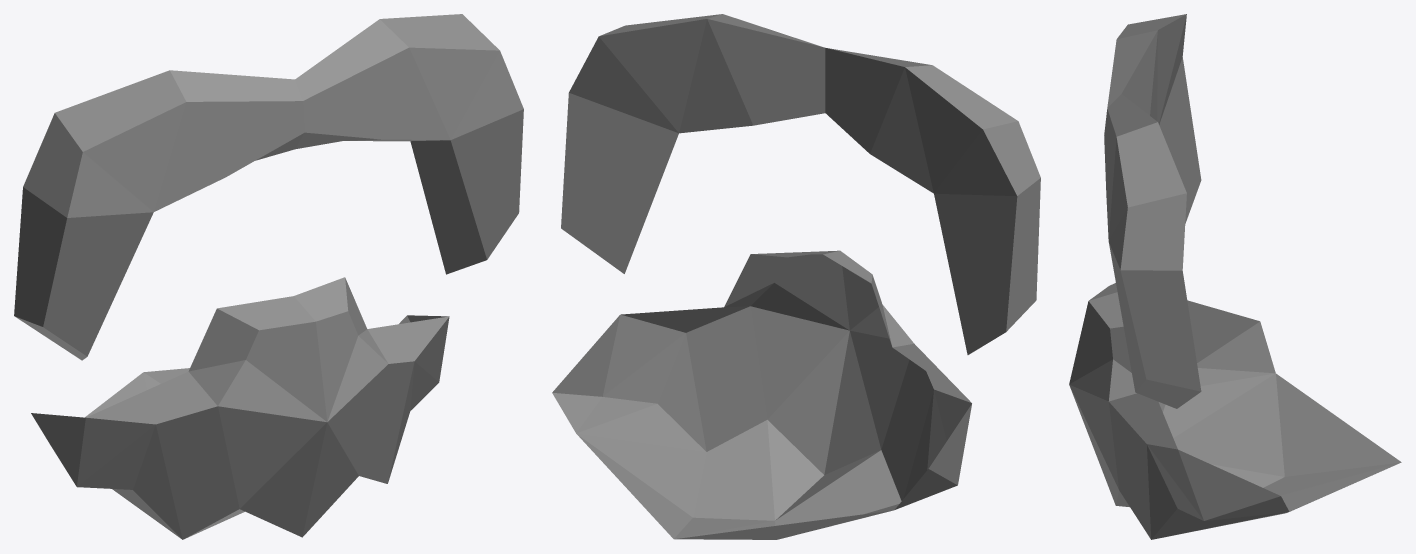
The model's file is SM_Chr_Attach_Beard_Grey_01.fbx.
3 renders of one model, left to right at view 1: azimuth 30°, elevation 25°; view 2: azimuth 150°, elevation 25°; view 3: azimuth 270°, elevation 25°, orthographic. The views are drawn at different scales.
Visible parts, largest first — view 1: SM_Chr_Attach_Beard_Grey_01; view 2: SM_Chr_Attach_Beard_Grey_01; view 3: SM_Chr_Attach_Beard_Grey_01.
Part boxes in pixels (x1=…): SM_Chr_Attach_Beard_Grey_01: x1=14, y1=14, x2=523, y2=539; SM_Chr_Attach_Beard_Grey_01: x1=552, y1=14, x2=1040, y2=539; SM_Chr_Attach_Beard_Grey_01: x1=1069, y1=14, x2=1401, y2=539.
Size of the model in its own units: 13.77 by 13.46 by 9.29.
